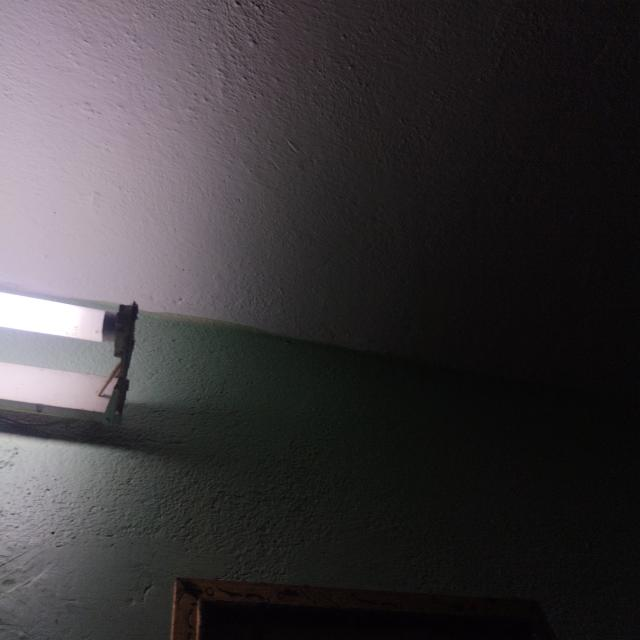tubelight_on: (0, 283, 140, 433)
